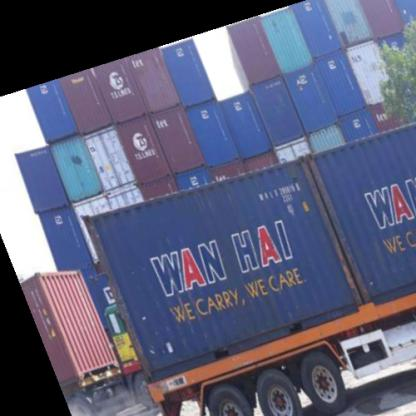Damage: (292, 146, 370, 312), (72, 210, 148, 372)
